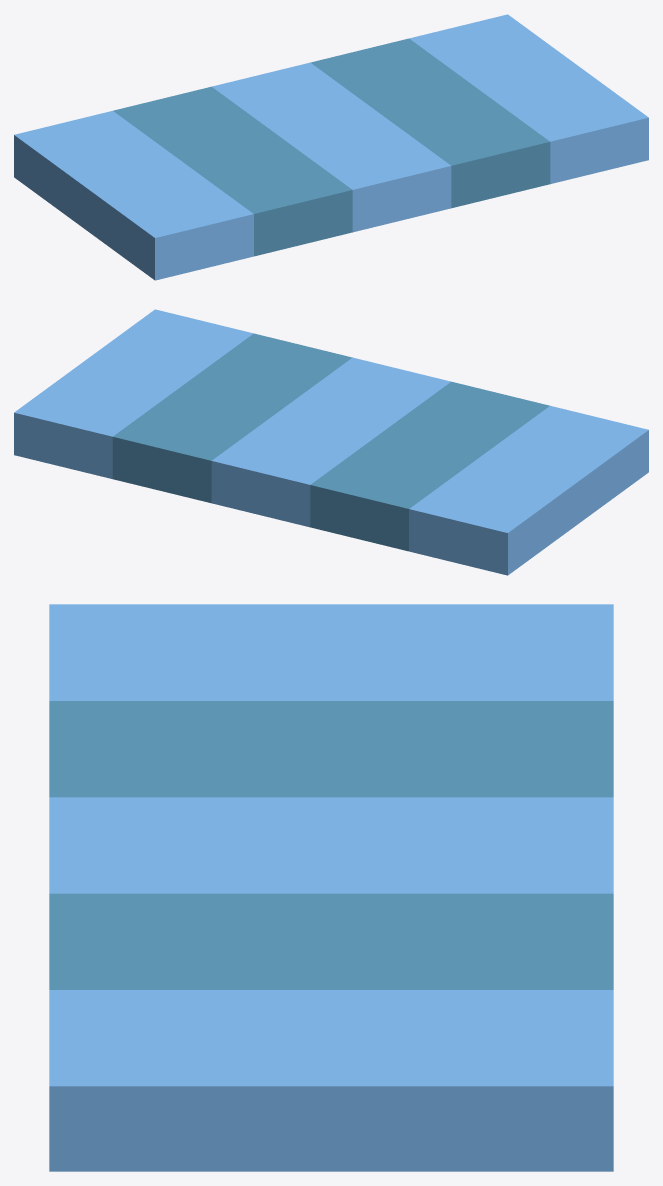
Rendered from 5 carpet.fbx.
The picture shows the model from 3 angles, top to bottom: view 1: azimuth 30°, elevation 25°; view 2: azimuth 150°, elevation 25°; view 3: azimuth 270°, elevation 25°; orthographic projection. The views are drawn at different scales.
Visible parts, largest first — view 1: 5 carpet; view 2: 5 carpet; view 3: 5 carpet.
Boxes of the visible parts, left/top/right/bottom form: 5 carpet: left=14, top=14, right=648, bottom=280; 5 carpet: left=14, top=309, right=648, bottom=575; 5 carpet: left=49, top=604, right=613, bottom=1171.
Size of the model in its own units: 51.73 by 4.25 by 25.6.
